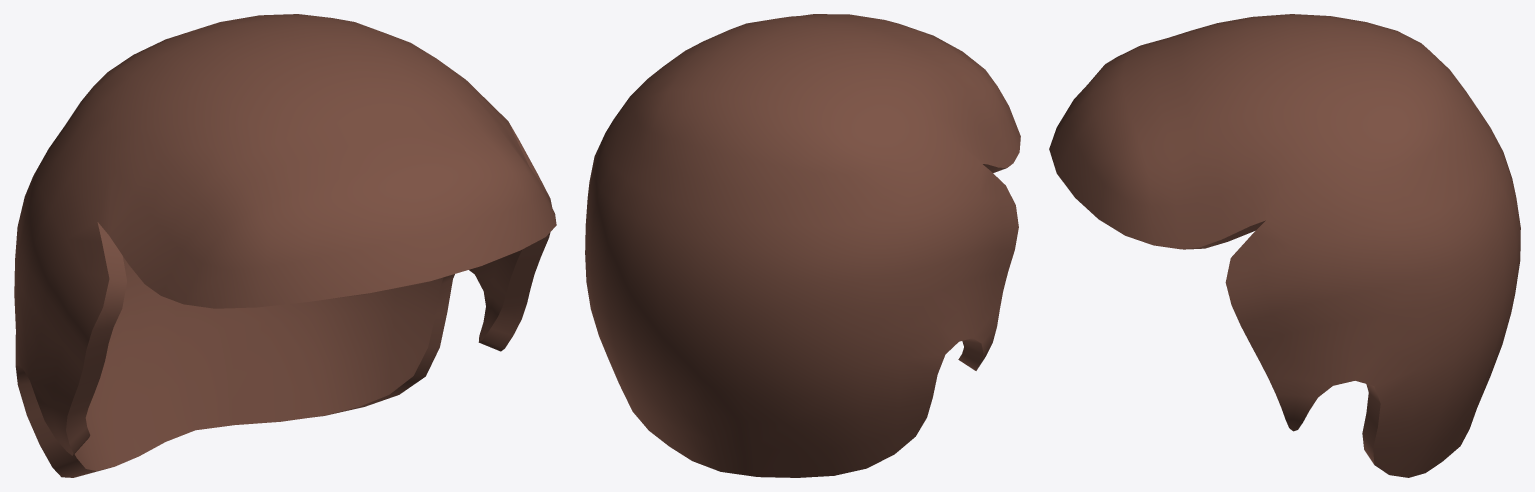
3 views of the same model, side by side, from view 1: azimuth 30°, elevation 25°; view 2: azimuth 150°, elevation 25°; view 3: azimuth 270°, elevation 25° (orthographic). The views are drawn at different scales.
Visible parts, largest first — view 1: hair_person_2; view 2: hair_person_2; view 3: hair_person_2.
Part boxes in pixels (<box>): hair_person_2: <box>14,14,556,477</box>; hair_person_2: <box>585,14,1020,477</box>; hair_person_2: <box>1049,14,1520,477</box>.
Size of the model in its own units: 2.05 by 1.9 by 2.1.
